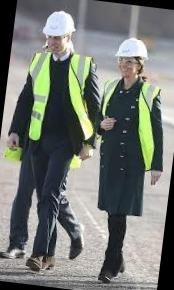Vest: (19, 47, 106, 148), (96, 71, 168, 167)
